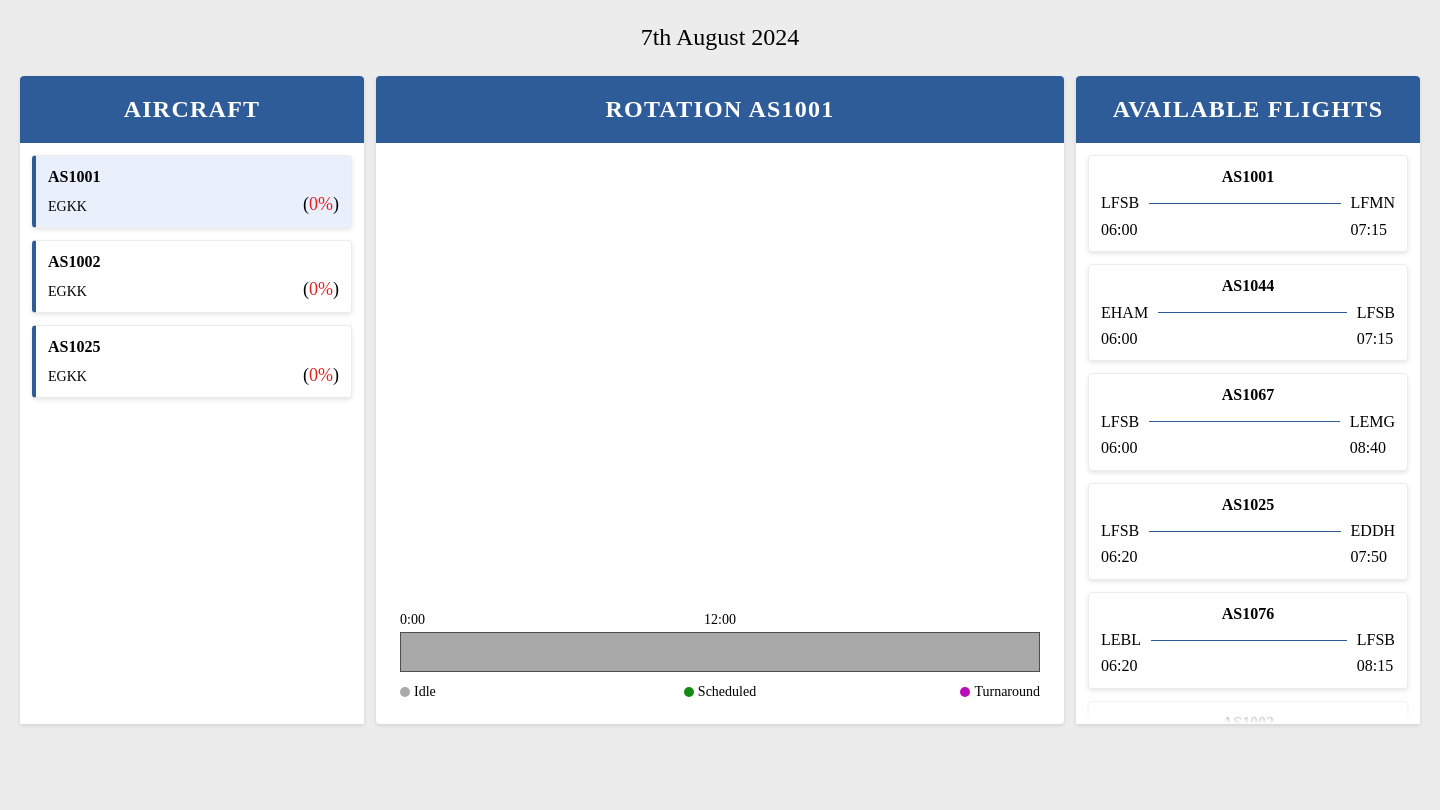
Test case: <Scheduler /> › Clicking an aircraft should set it to the current rotation to be edited
Expected: the heading "Rotation AS1001" is shown, [605,96,835,122]
Click the button "AS1002 EGKK (0%)" at {"x": 74, "y": 262}, box [32,240,352,313]
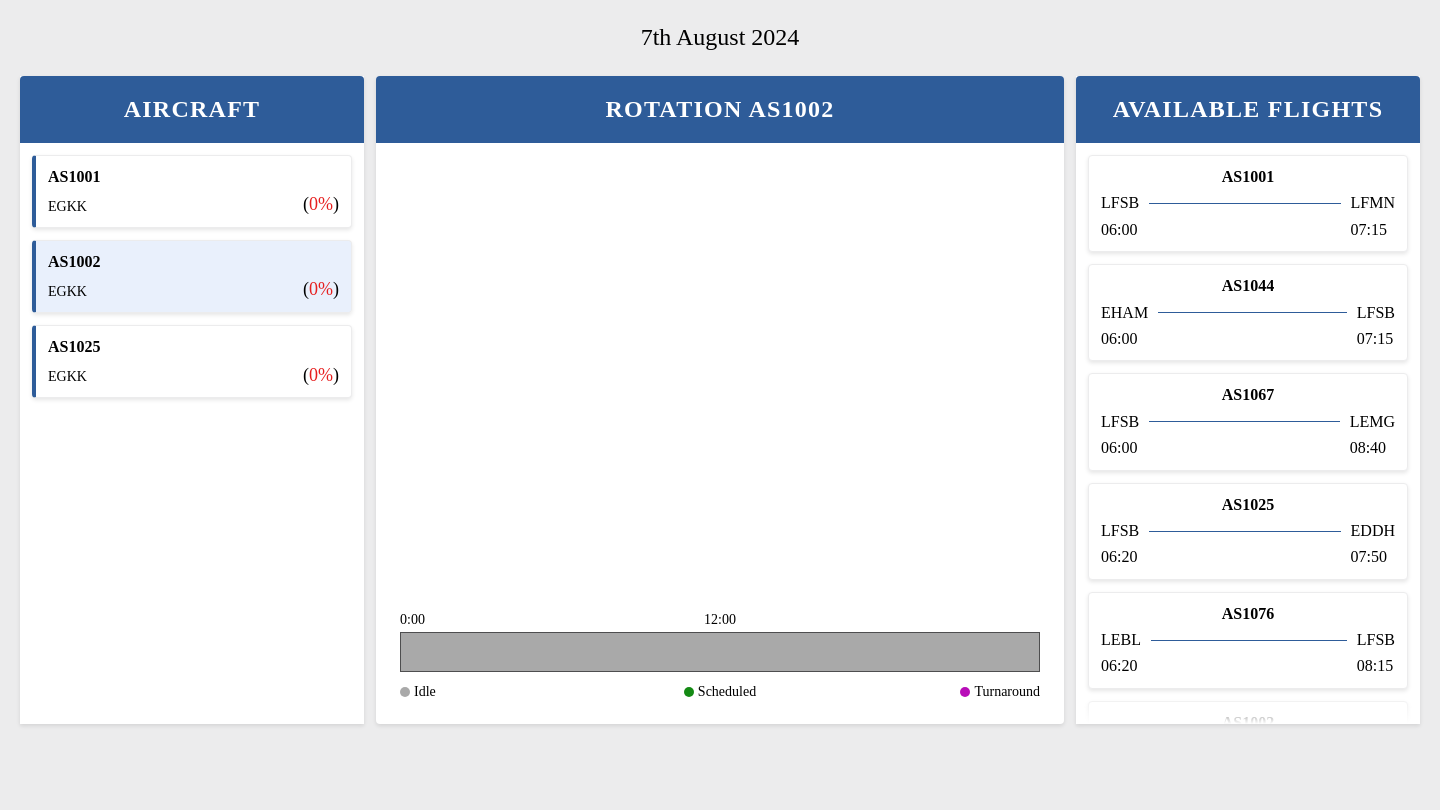
Now the heading "Rotation AS1001" is gone
Now the heading "Rotation AS1002" is shown, box [605,96,835,122]
